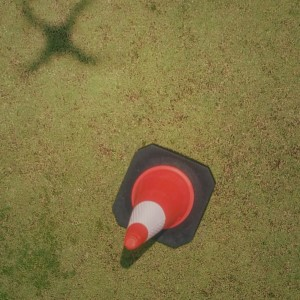traffic cone: (112, 144, 216, 250)
